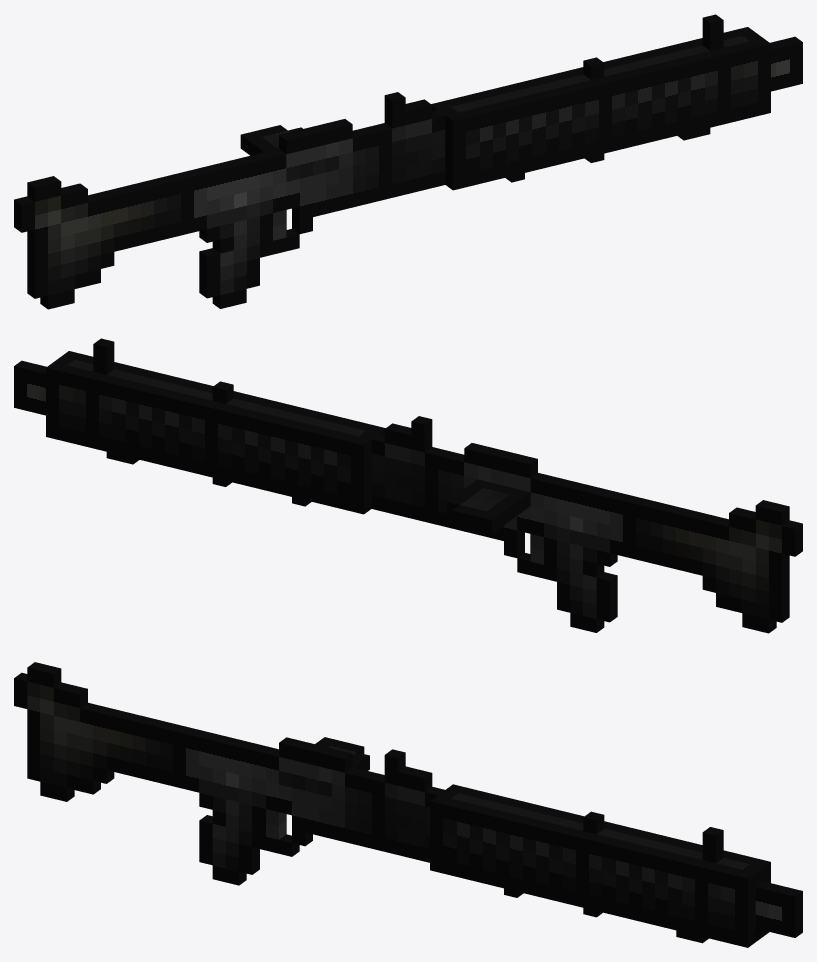
Rendered from RUINER.glb.
3 views of the same model, one above another, from view 1: azimuth 30°, elevation 25°; view 2: azimuth 150°, elevation 25°; view 3: azimuth 330°, elevation 25° (orthographic).
Visible parts, largest first — view 1: RUINER; view 2: RUINER; view 3: RUINER.
Boxes of the visible parts, left/top/right/bottom form: RUINER: left=14, top=14, right=802, bottom=309; RUINER: left=14, top=338, right=802, bottom=633; RUINER: left=14, top=662, right=802, bottom=947.
Size of the model in its own units: 1.86 by 0.378 by 0.2204.
1 material, 1 textured.
